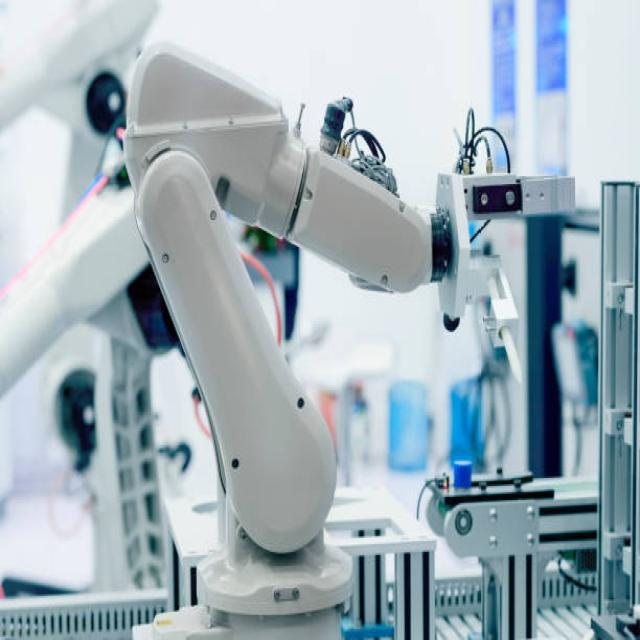Robotic-arm: (121, 36, 484, 633)
